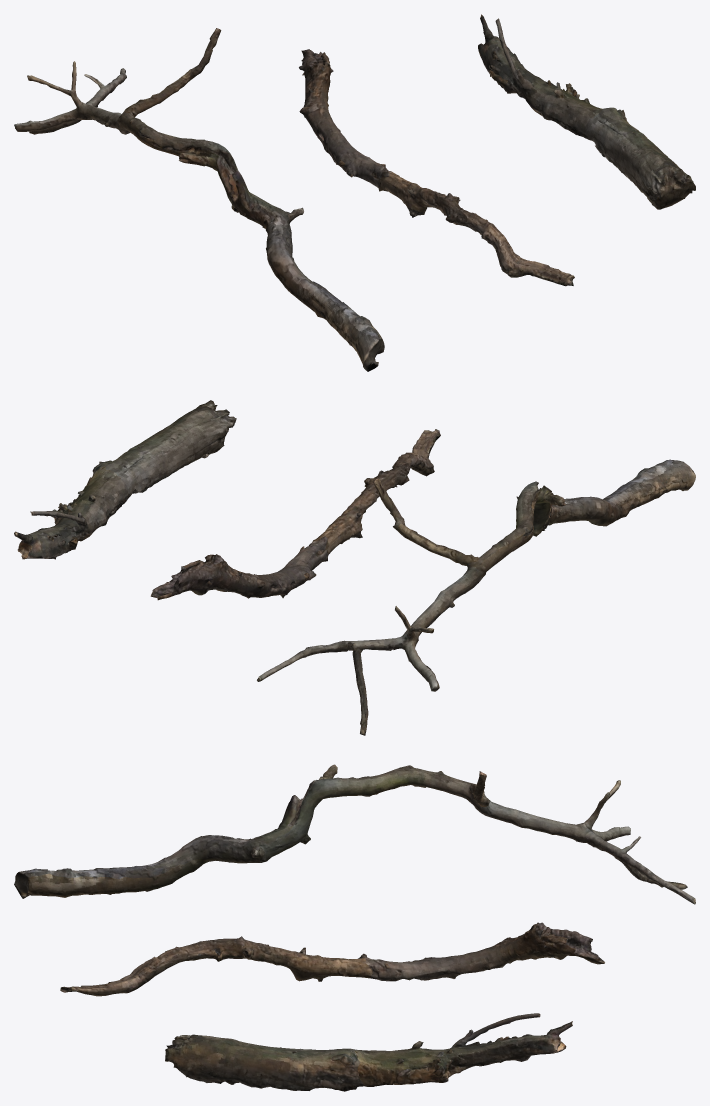
Rendered from dry_branches_medium_01.gltf.
3 renders of one model, top to bottom at view 1: azimuth 30°, elevation 25°; view 2: azimuth 150°, elevation 25°; view 3: azimuth 270°, elevation 25°, orthographic. The views are drawn at different scales.
Visible parts, largest first — view 1: dry_branches_medium_01_a, dry_branches_medium_01_c, dry_branches_medium_01_b; view 2: dry_branches_medium_01_a, dry_branches_medium_01_c, dry_branches_medium_01_b; view 3: dry_branches_medium_01_a, dry_branches_medium_01_c, dry_branches_medium_01_b.
Boxes of the visible parts, bbox=[...] form: dry_branches_medium_01_a: bbox=[14, 28, 384, 371]; dry_branches_medium_01_c: bbox=[478, 14, 695, 209]; dry_branches_medium_01_b: bbox=[299, 49, 574, 286]; dry_branches_medium_01_a: bbox=[257, 459, 695, 735]; dry_branches_medium_01_c: bbox=[14, 400, 236, 559]; dry_branches_medium_01_b: bbox=[150, 429, 440, 600]; dry_branches_medium_01_a: bbox=[14, 764, 695, 904]; dry_branches_medium_01_c: bbox=[165, 1013, 572, 1091]; dry_branches_medium_01_b: bbox=[60, 922, 604, 996].
Bounding box in the file's own units: 1.06 × 0.341 × 1.3.
1 material, 1 textured.
